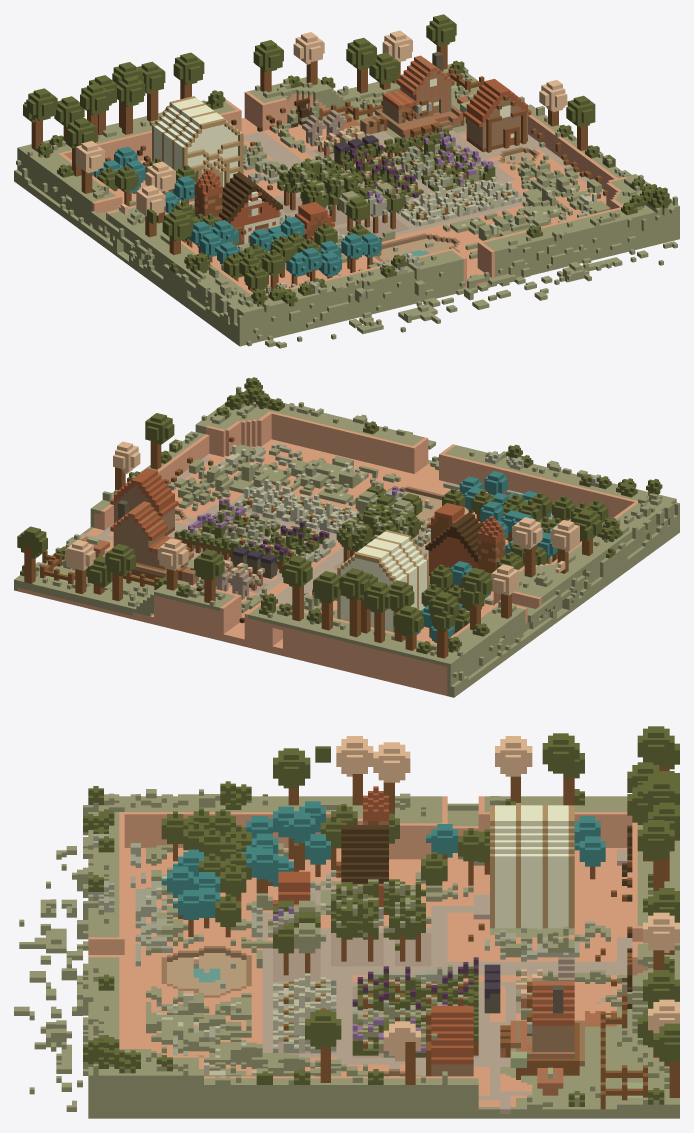
Rendered from stardewValley-transformed.glb.
The picture shows the model from 3 angles, top to bottom: view 1: azimuth 30°, elevation 25°; view 2: azimuth 150°, elevation 25°; view 3: azimuth 270°, elevation 25°; orthographic projection. The views are drawn at different scales.
Visible parts, largest first — view 1: Object_2; view 2: Object_2; view 3: Object_2.
Boxes of the visible parts, x1=… form: Object_2: x1=14, y1=14, x2=679, y2=348; Object_2: x1=14, y1=377, x2=679, y2=697; Object_2: x1=14, y1=726, x2=679, y2=1118.
Size of the model in its own units: 9.41 by 1.94 by 9.41.
Materials: 1 (1 with a texture image).
